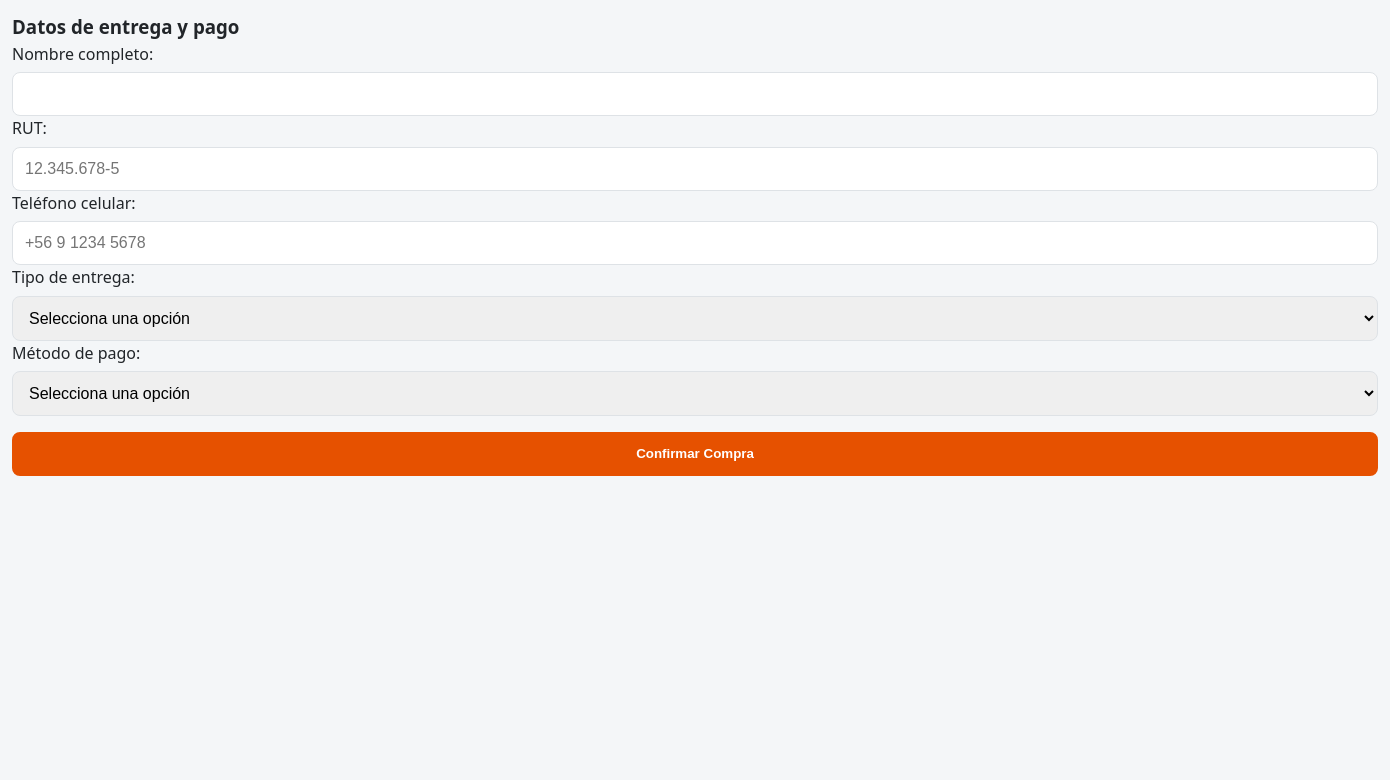
Scenario: FormularioCheckout › muestra los campos de dirección solo con despacho a domicilio
Select "Despacho a domicilio" in the dropdown labelled "Tipo de entrega:" at (695, 318), box [12, 296, 1378, 340]
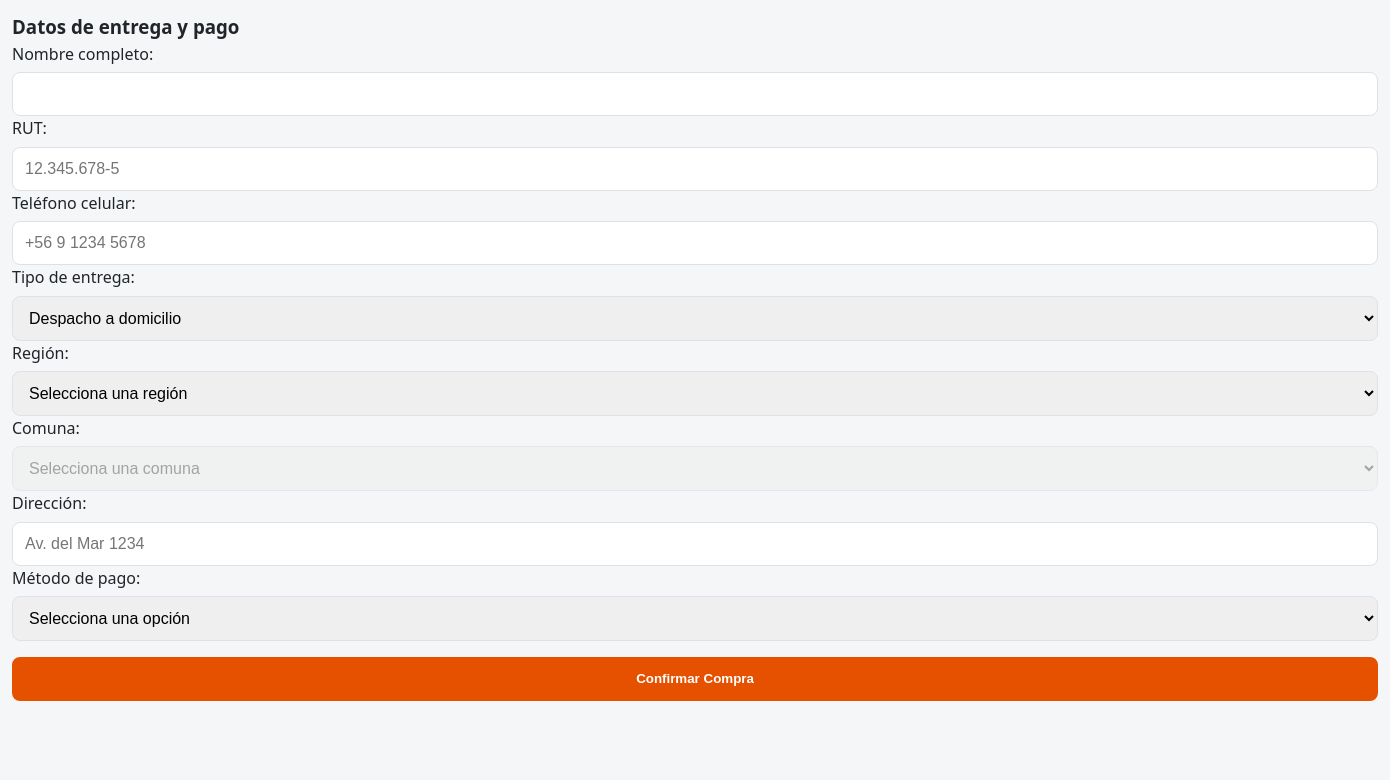
Now the field labelled "Dirección:" is shown, box [12, 522, 1378, 566]
